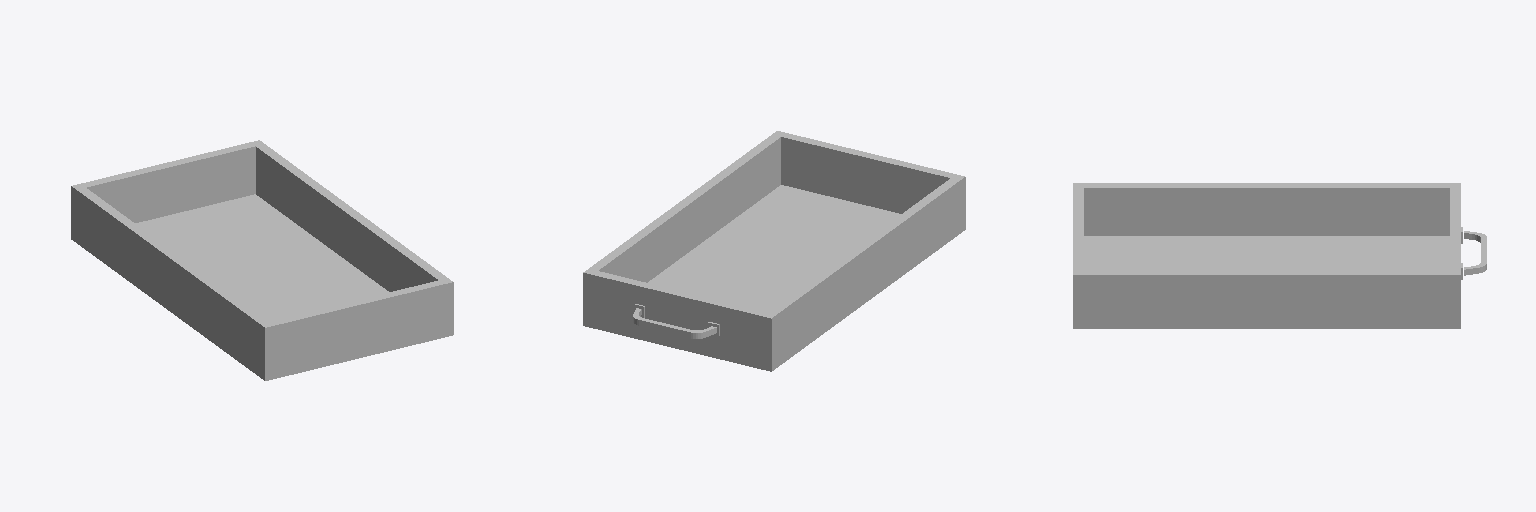
Rendered from SM_DeskDrawerSmall_001.obj.
3 views of the same model, side by side, from view 1: azimuth 30°, elevation 25°; view 2: azimuth 150°, elevation 25°; view 3: azimuth 270°, elevation 25° (orthographic).
Parts seen in each view (by area): view 1: pCube25; view 2: pCube25; view 3: pCube25.
Boxes of the visible parts, x1=… form: pCube25: x1=71, y1=140, x2=453, y2=380; pCube25: x1=583, y1=131, x2=965, y2=371; pCube25: x1=1073, y1=183, x2=1486, y2=328.
Bounding box in the file's own units: 28.83 × 7.82 × 54.87.